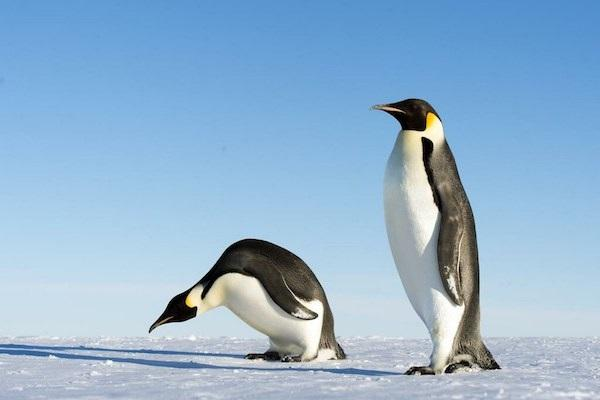emporer: (346, 83, 515, 391), (126, 232, 374, 387)
